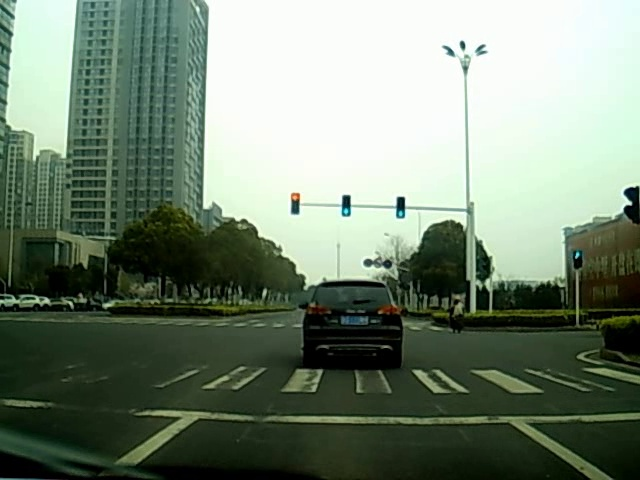Traffic_Light_go: (396, 197, 405, 220), (341, 196, 350, 216)
Traffic_Light_stop: (291, 193, 300, 213)
